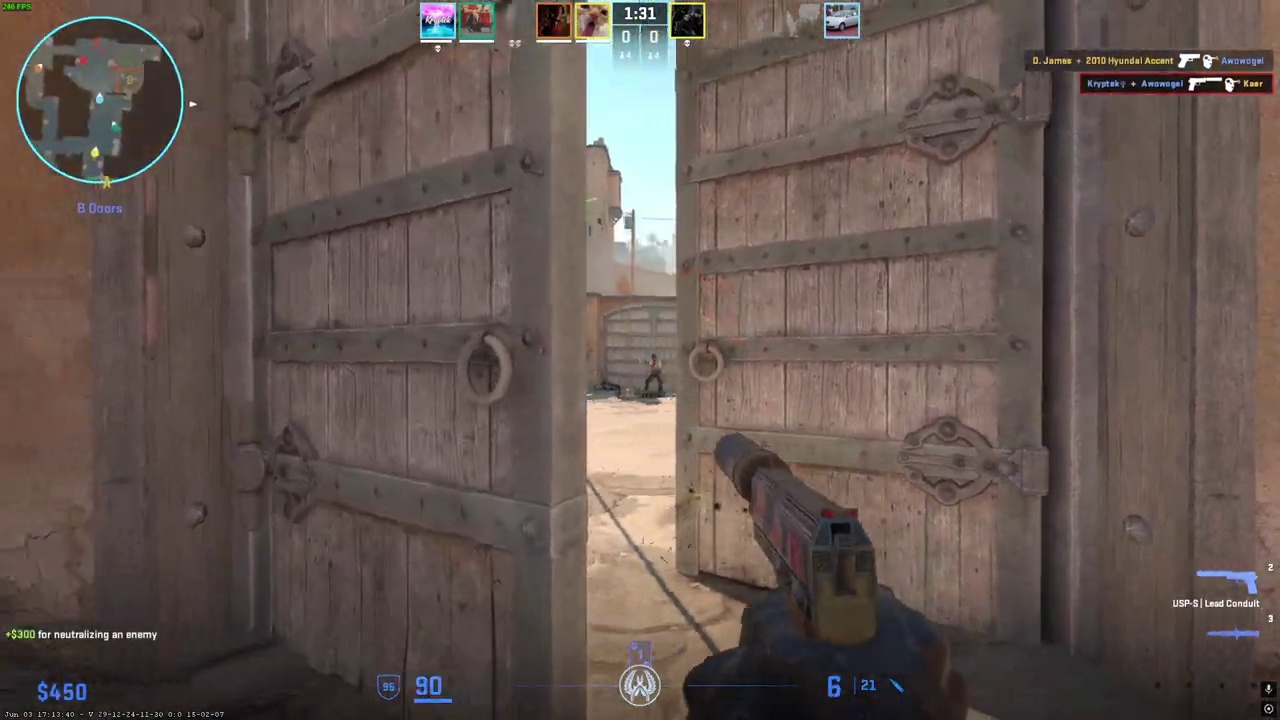Terrorist: (645, 353, 663, 397)
